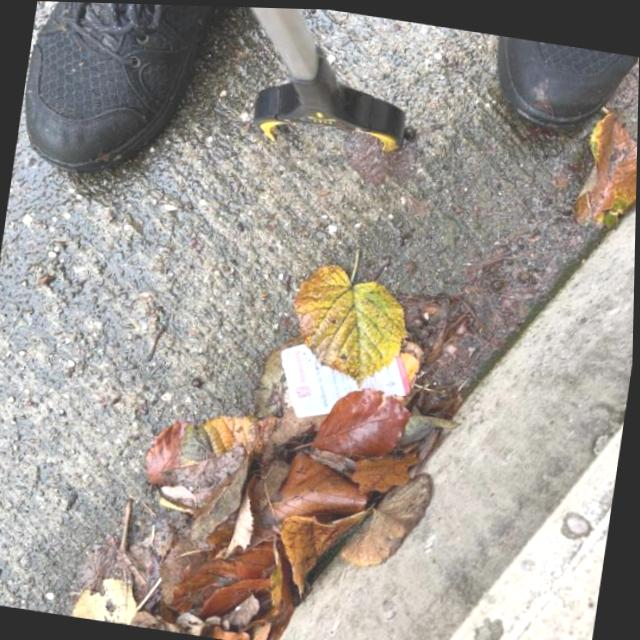Paper: (270, 331, 421, 432)
